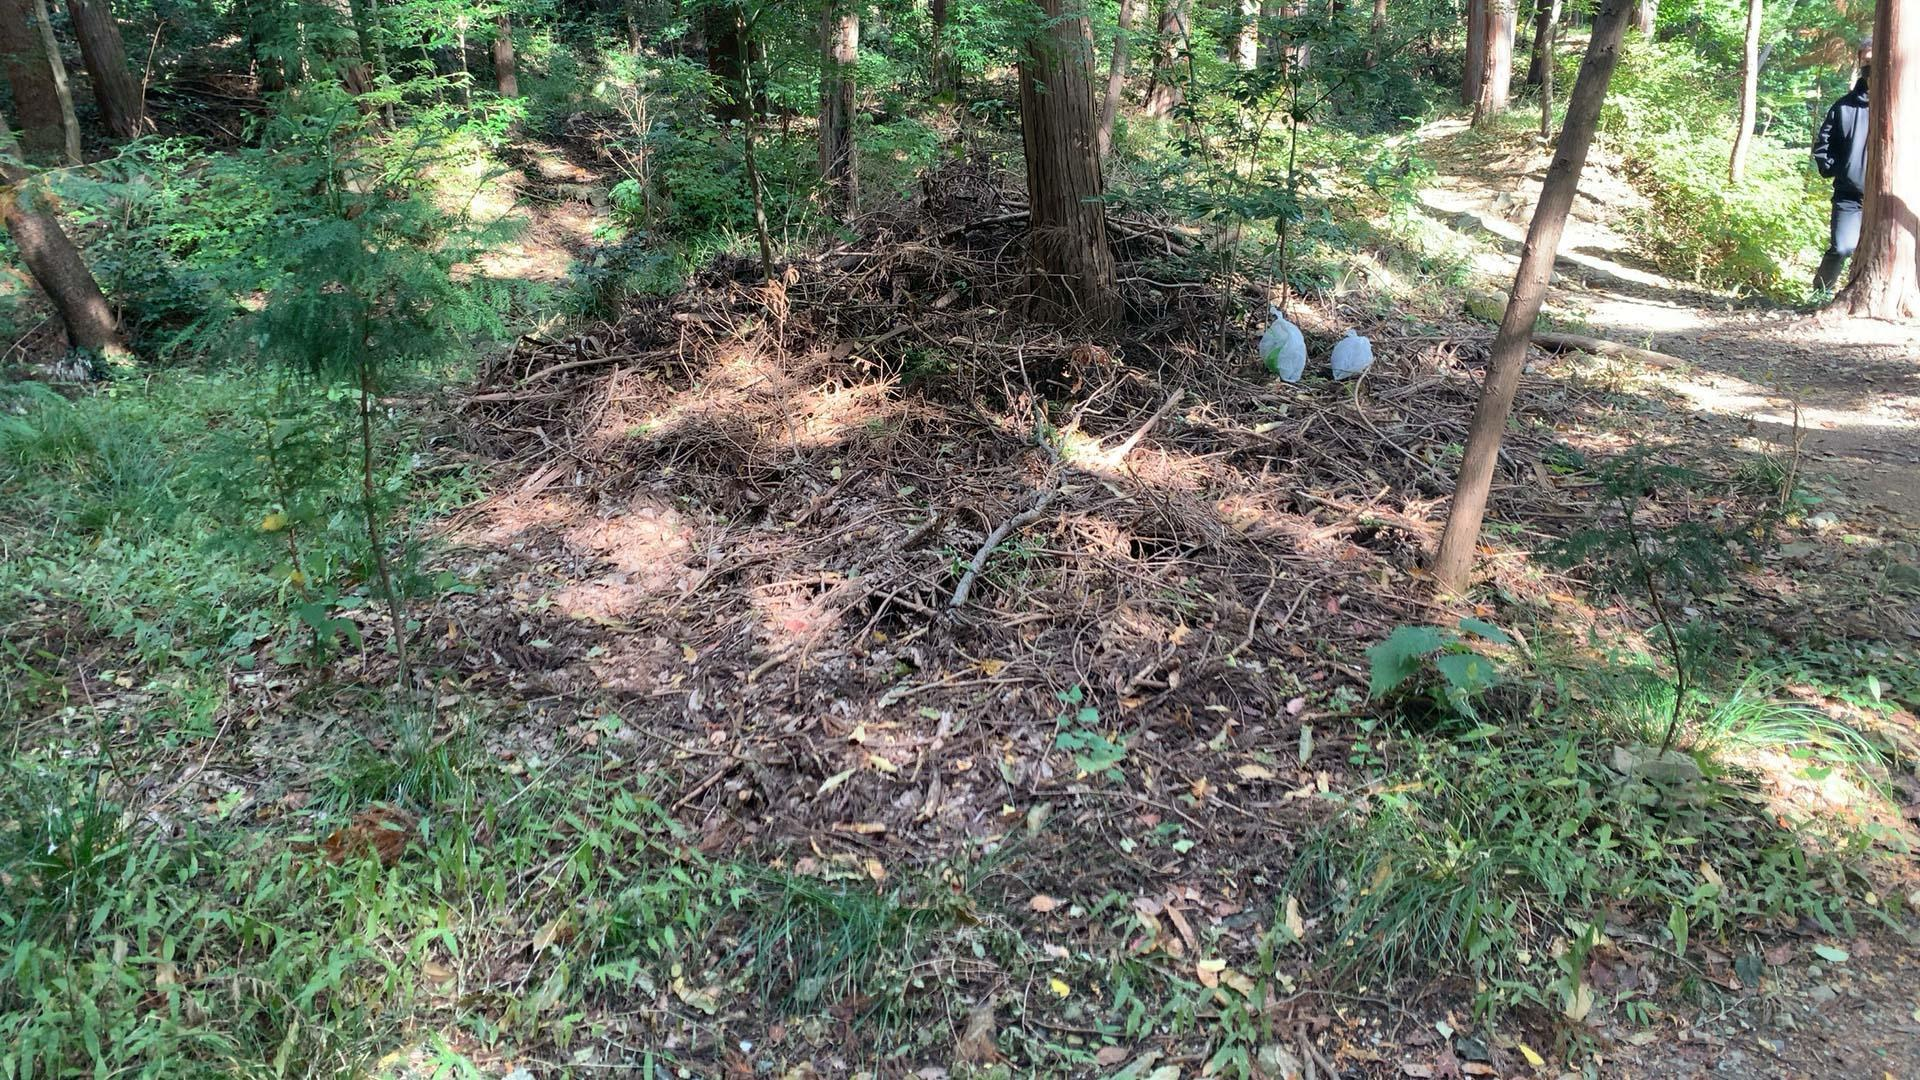white_bag: (1251, 305, 1311, 384), (1328, 324, 1375, 382)
